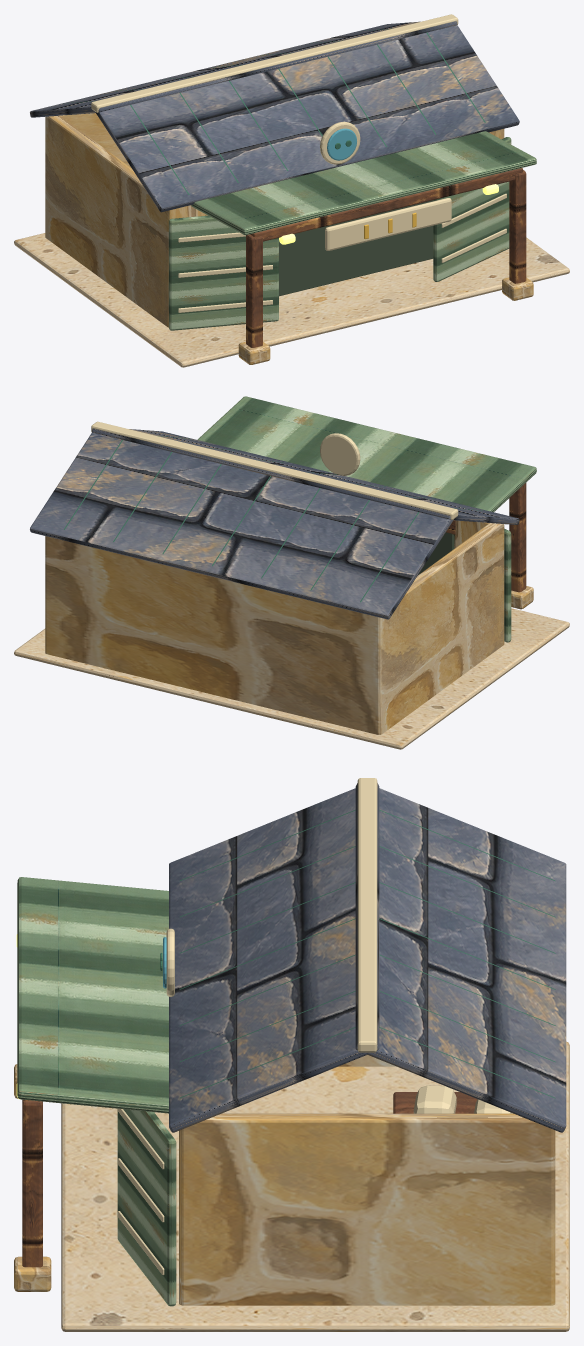
The model's file is bracken_feed_store.glb.
3 renders of one model, top to bottom at view 1: azimuth 30°, elevation 25°; view 2: azimuth 150°, elevation 25°; view 3: azimuth 270°, elevation 25°, orthographic. The views are drawn at different scales.
Parts seen in each view (by area): view 1: Secondary painted slate.001, Secondary painted sage metal, Secondary painted limestone.001, Secondary painted concrete.001, Secondary warm cream trim.001, Secondary painted chestnut.001, Secondary warm interior.001, Secondary deep forest frame.001, Secondary sky-blue glass.001; view 2: Secondary painted limestone.001, Secondary painted slate.001, Secondary painted sage metal, Secondary painted concrete.001, Secondary warm cream trim.001, Secondary painted chestnut.001, Secondary deep forest frame.001, Secondary warm interior.001; view 3: Secondary painted slate.001, Secondary painted limestone.001, Secondary painted sage metal, Secondary painted concrete.001, Secondary warm cream trim.001, Secondary painted chestnut.001, Secondary deep forest frame.001.
Part boxes in pixels (x1,y1,x2,y2): Secondary painted slate.001: (30,21,519,212); Secondary painted sage metal: (169,131,536,330); Secondary painted limestone.001: (45,113,533,364); Secondary painted concrete.001: (14,233,569,367); Secondary warm cream trim.001: (91,14,506,312); Secondary painted chestnut.001: (246,168,526,347); Secondary warm interior.001: (279,200,433,296); Secondary deep forest frame.001: (64,28,485,194); Secondary sky-blue glass.001: (327,128,356,160); Secondary painted limestone.001: (45,520,533,734); Secondary painted slate.001: (30,428,519,619); Secondary painted sage metal: (197,396,536,642); Secondary painted concrete.001: (14,608,569,749); Secondary warm cream trim.001: (91,421,458,519); Secondary painted chestnut.001: (446,483,526,592); Secondary deep forest frame.001: (64,436,485,602); Secondary warm interior.001: (418,532,453,574); Secondary painted slate.001: (169,783,566,1132); Secondary painted limestone.001: (14,1055,555,1305); Secondary painted sage metal: (17,877,176,1306); Secondary painted concrete.001: (61,1041,569,1331); Secondary warm cream trim.001: (118,778,512,1275); Secondary painted chestnut.001: (22,1092,477,1267); Secondary deep forest frame.001: (160,810,555,1098).
Bounding box in the file's own units: 13 × 5.98 × 10.71.
Materials: 12 (5 with a texture image).
